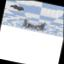drone: (22, 17, 48, 32)
